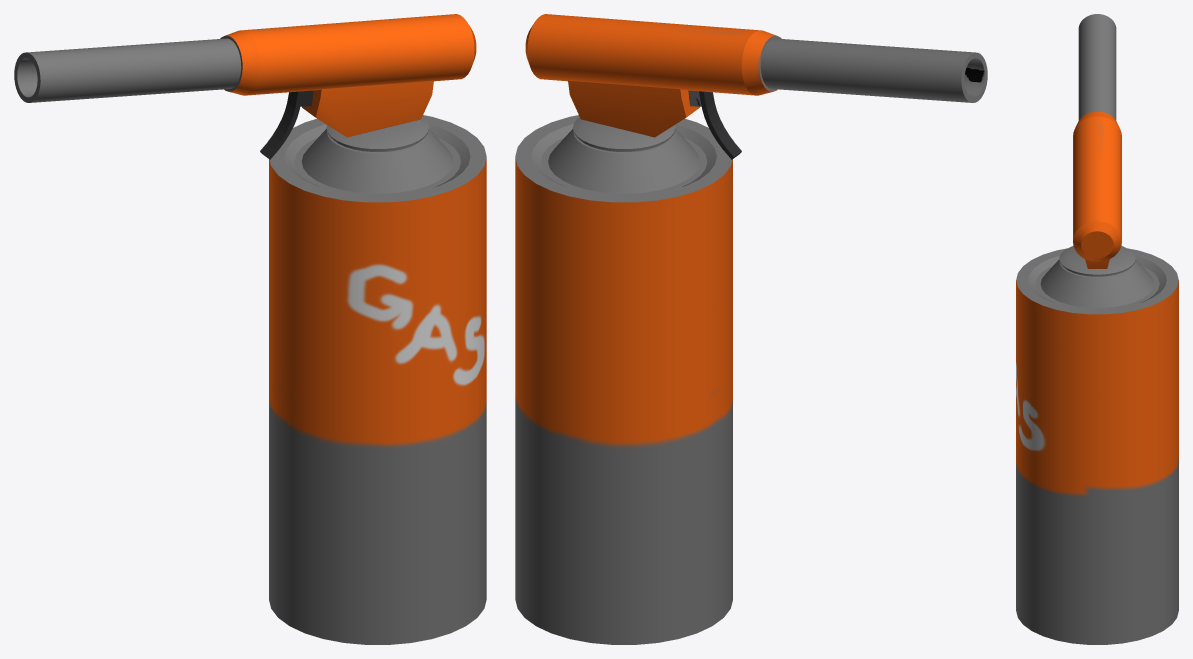
File: burner.fbx
The picture shows the model from 3 angles, left to right: view 1: azimuth 30°, elevation 25°; view 2: azimuth 150°, elevation 25°; view 3: azimuth 270°, elevation 25°; orthographic projection. The views are drawn at different scales.
Visible parts, largest first — view 1: Cylinder.002; view 2: Cylinder.002; view 3: Cylinder.002.
Boxes of the visible parts, x1,y1,x2,y2 form: Cylinder.002: [14, 14, 486, 644]; Cylinder.002: [515, 14, 987, 644]; Cylinder.002: [1016, 14, 1178, 644].
Bounding box in the file's own units: 190 × 255 × 79.92.
